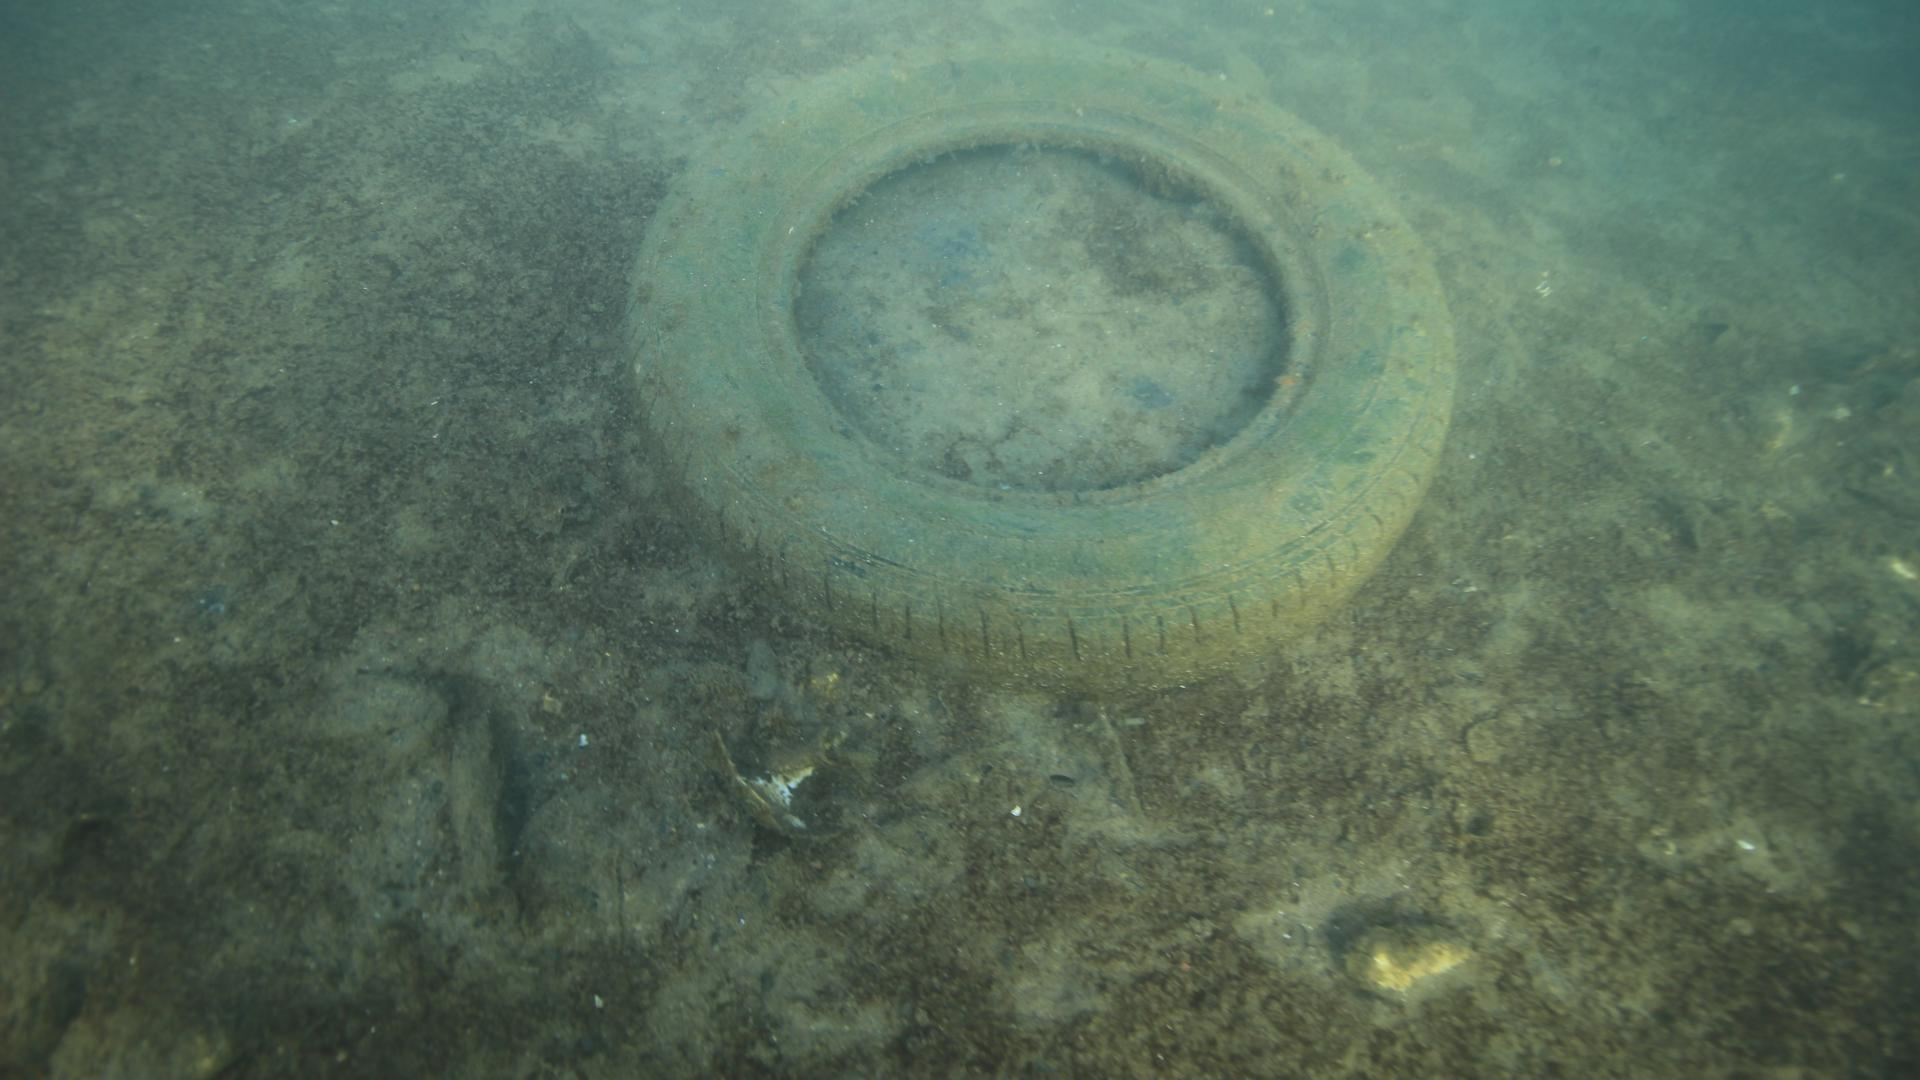tire: (626, 33, 1461, 699)
